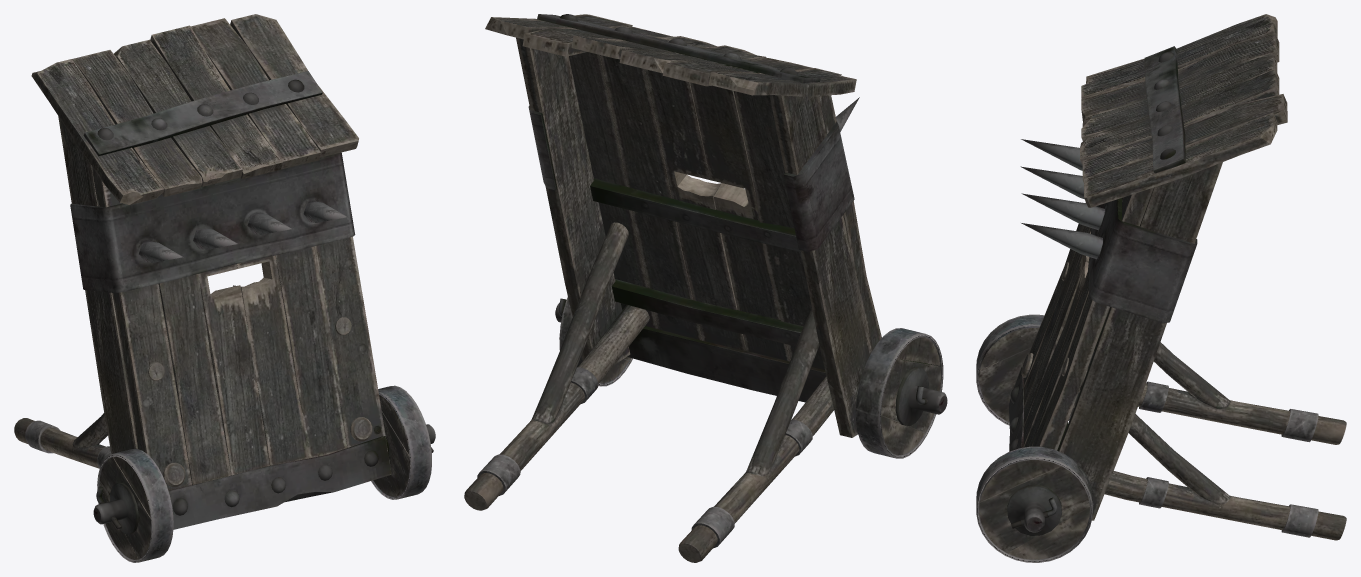
File: carro combate glb.draco.glb
3 views of the same model, side by side, from view 1: azimuth 30°, elevation 25°; view 2: azimuth 150°, elevation 25°; view 3: azimuth 270°, elevation 25° (orthographic). The views are drawn at different scales.
Visible parts, largest first — view 1: SM_Bastatella; view 2: SM_Bastatella; view 3: SM_Bastatella.
Boxes of the visible parts, box(x1,y1,x2,y2) form: SM_Bastatella: box(14, 14, 435, 562); SM_Bastatella: box(464, 14, 947, 562); SM_Bastatella: box(976, 14, 1346, 562).
Bounding box in the file's own units: 1.7 × 1.97 × 1.56.
1 material, 1 textured.
